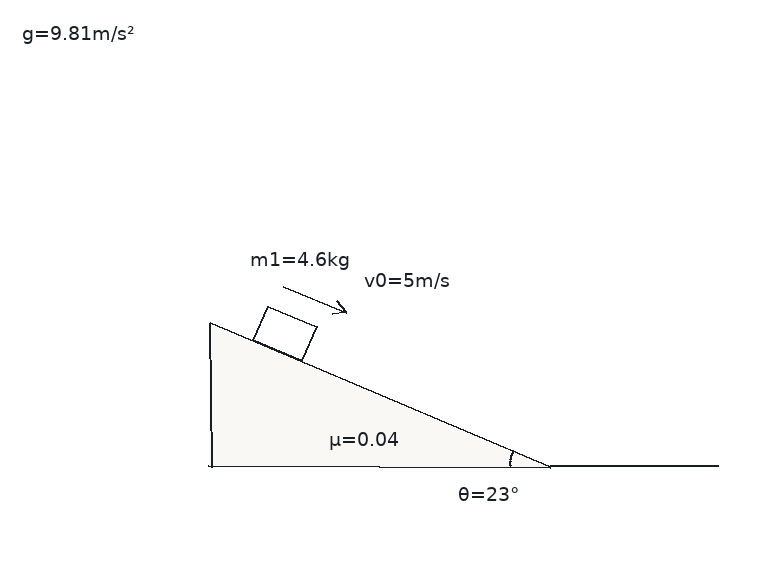block: (252, 304, 317, 362)
ramp: (207, 319, 552, 468)
